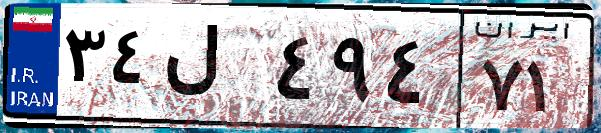1: (525, 38, 570, 115)
3: (57, 26, 110, 100)
4: (270, 28, 330, 110), (385, 28, 445, 110), (110, 28, 158, 98)
7: (475, 38, 525, 113)
9: (330, 28, 385, 110)
ل: (158, 20, 270, 120)
